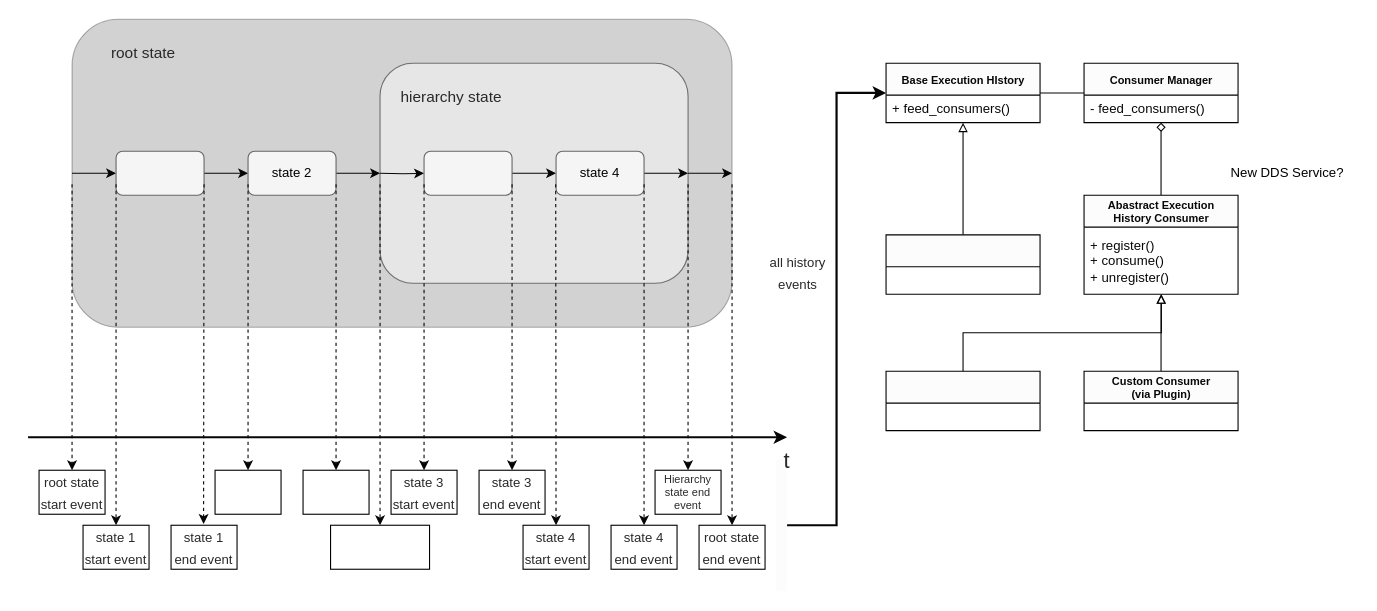
Image size: 1377x611. Some labels were removed from this diagram. The centre of each missing label's shape, as x and y in pixels:
"File System Consumer" goes at point (962, 400).
"hierarchy state start event" goes at point (379, 546).
"In Memory Execution History" goes at point (962, 264).
"state 1" goes at point (159, 172).
"state 2 end event" goes at point (335, 491).
"state 2 start event" goes at point (247, 491).
"state 3" goes at point (467, 172).
